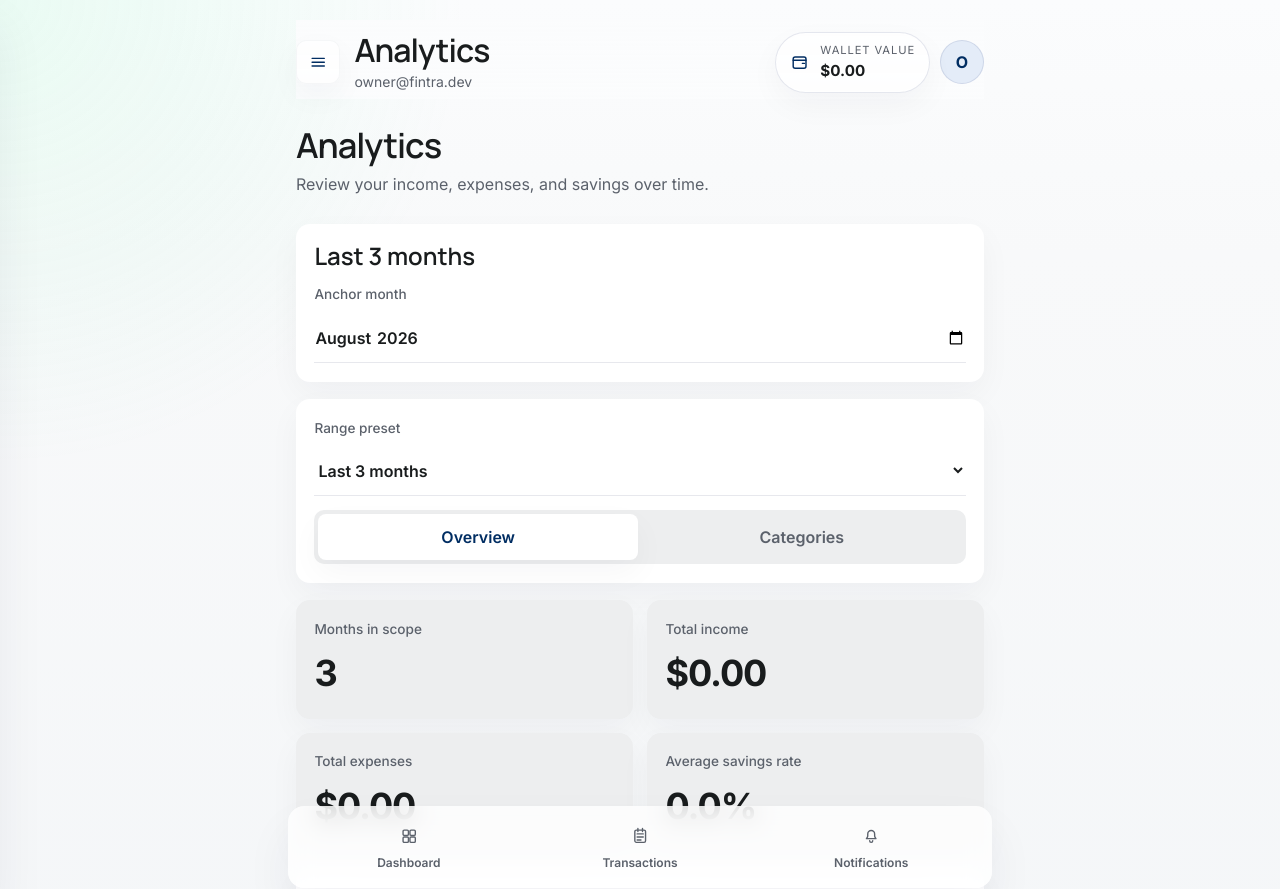
Test: AnalyticsPage › switches to the category analytics tab
Replace the text in the field labelled "Anchor month" with "2026-03" at (640, 337), box [314, 312, 966, 363]
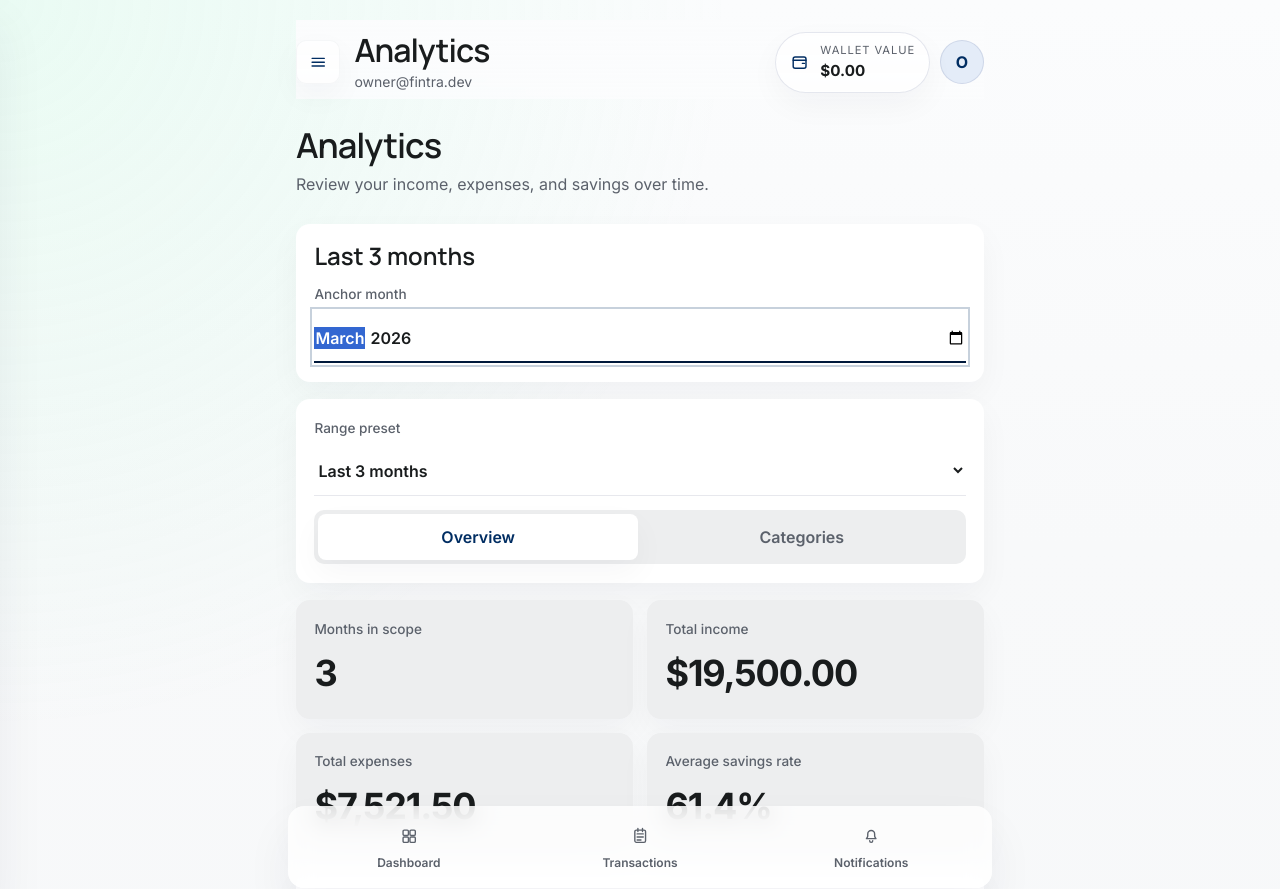
Click the tab "Categories" at (802, 537), box [642, 514, 962, 560]
(page scrolled)
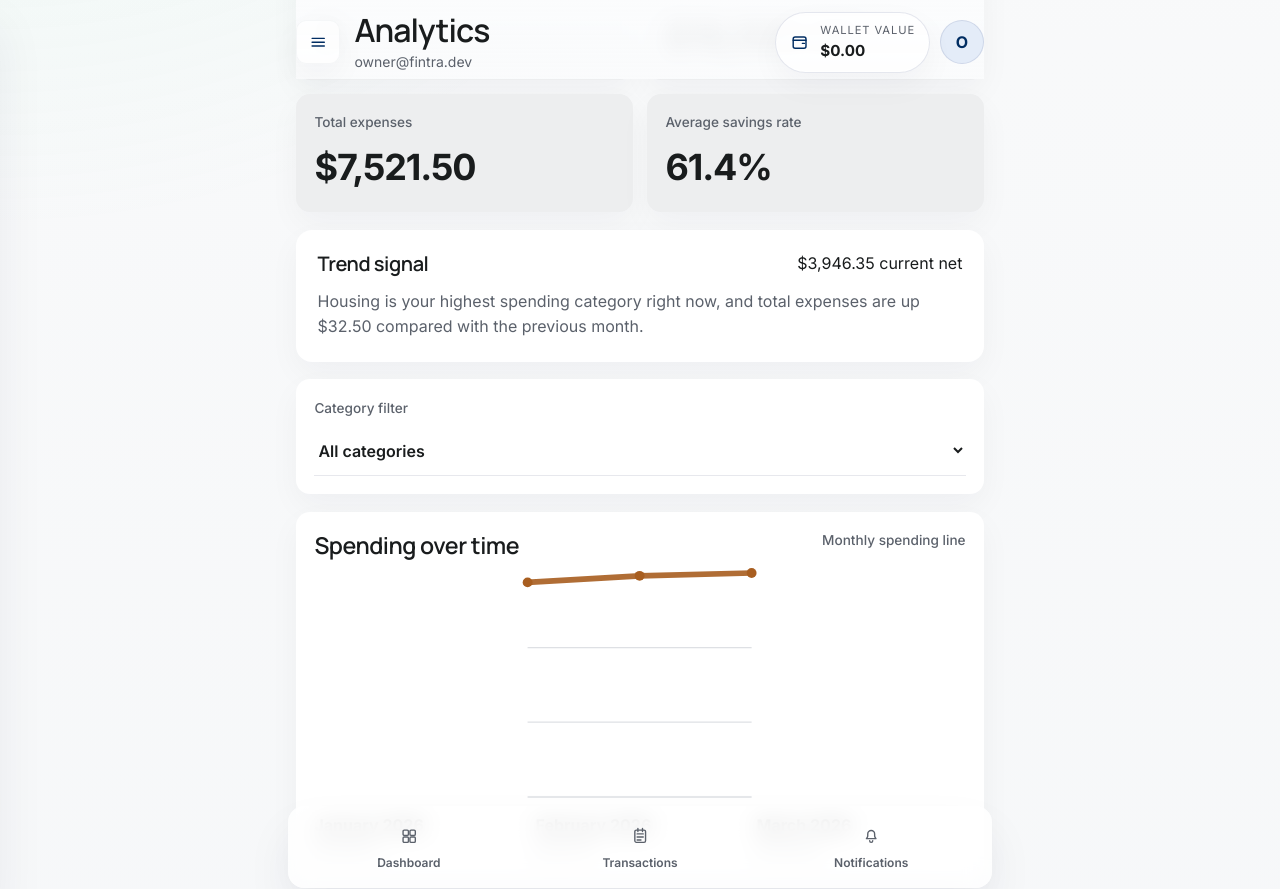
Check: the dropdown labelled "Category filter" is shown, box [314, 425, 966, 476]
